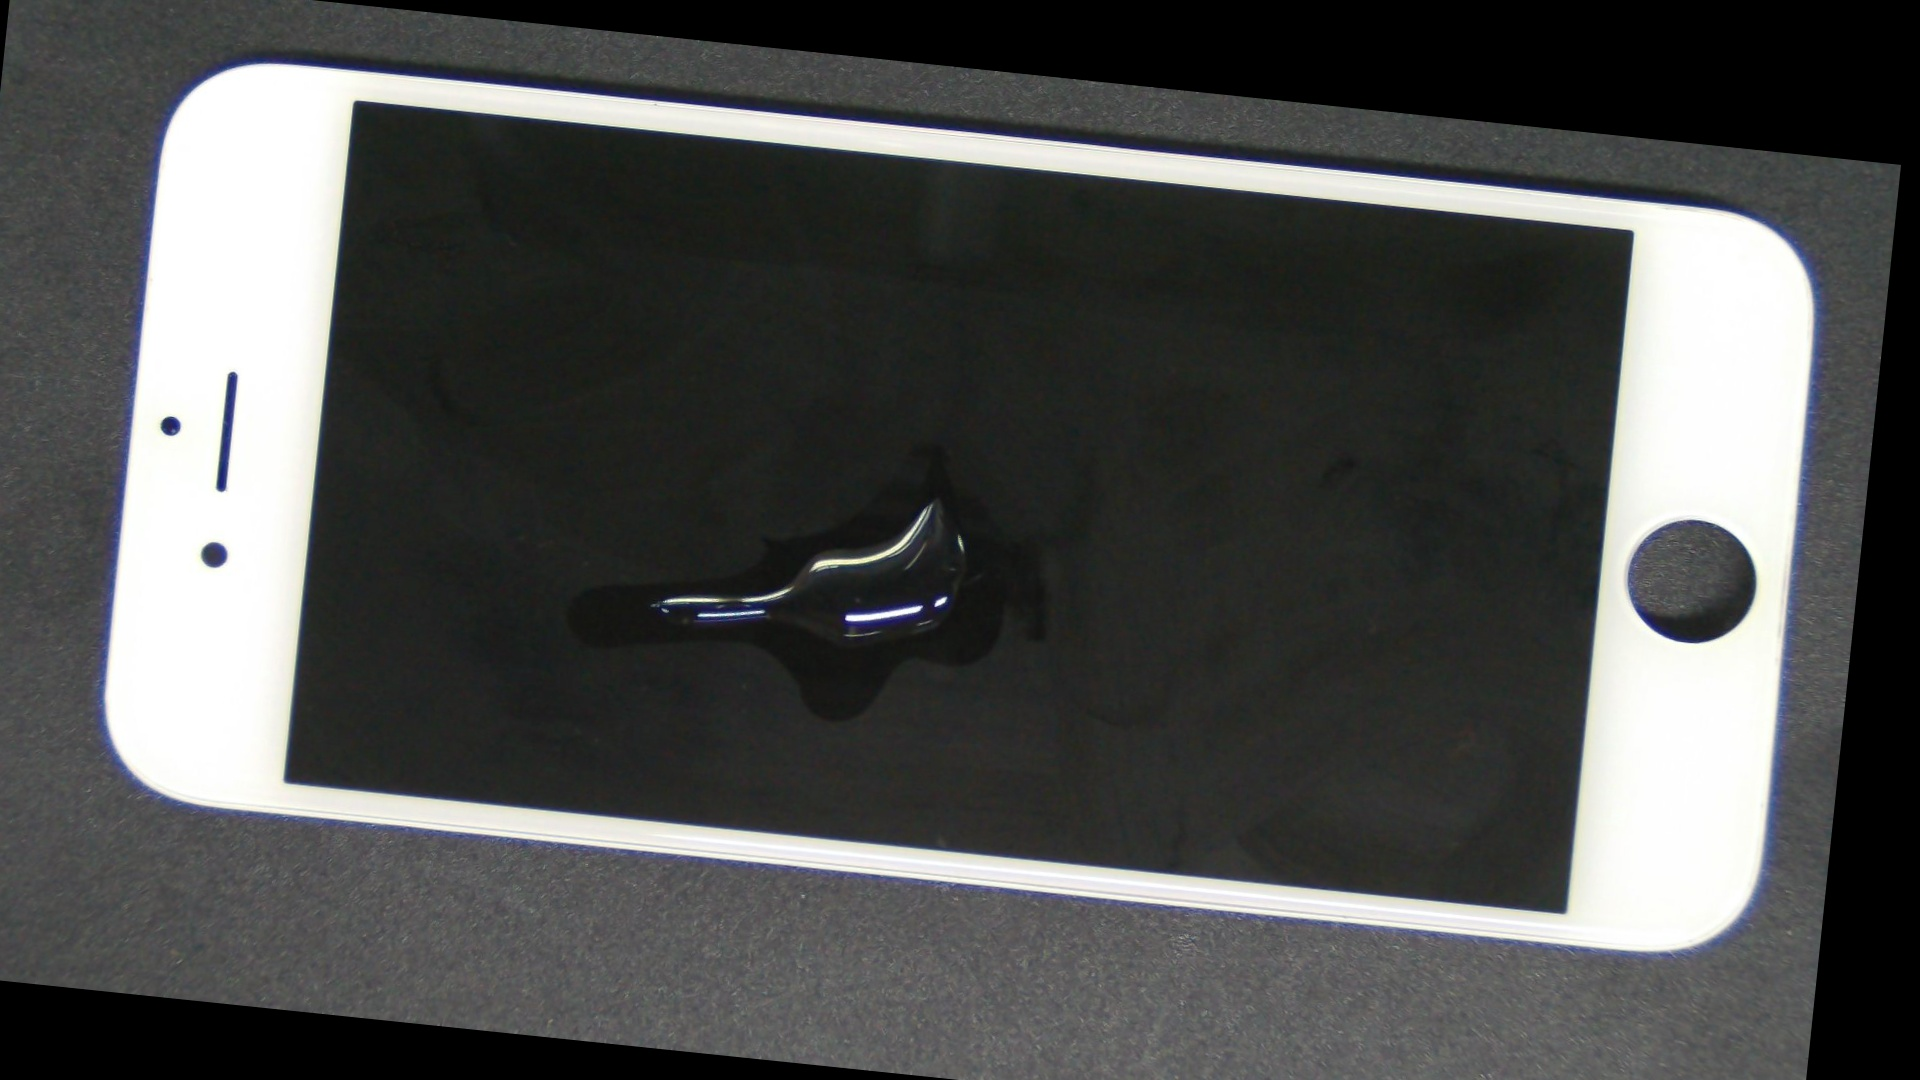oil: (434, 206, 1433, 683)
